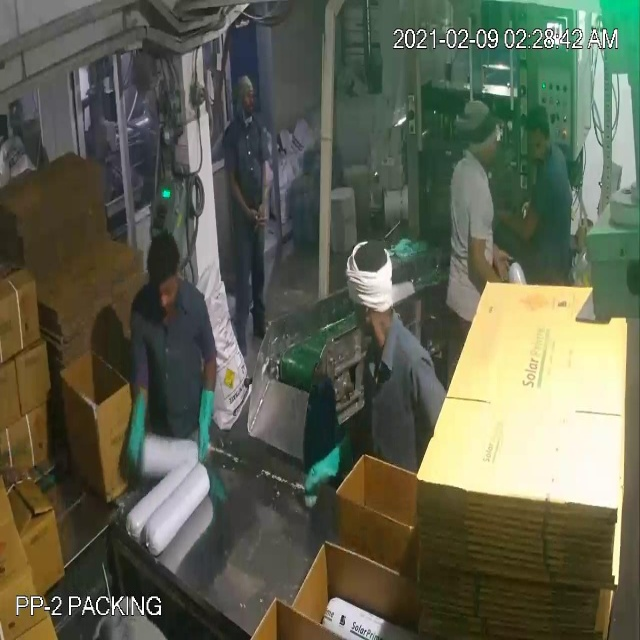Guantes: (298, 417, 358, 504), (113, 371, 153, 479), (191, 380, 218, 470)
Sin_guantes: (222, 164, 263, 234), (498, 190, 542, 246), (251, 157, 278, 229)
